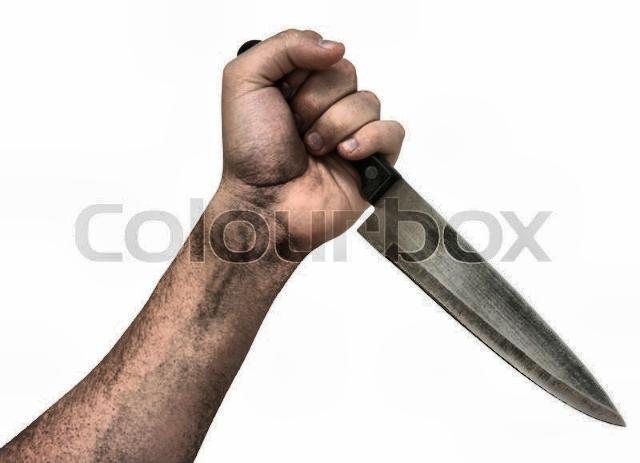knife: (275, 82, 639, 444)
